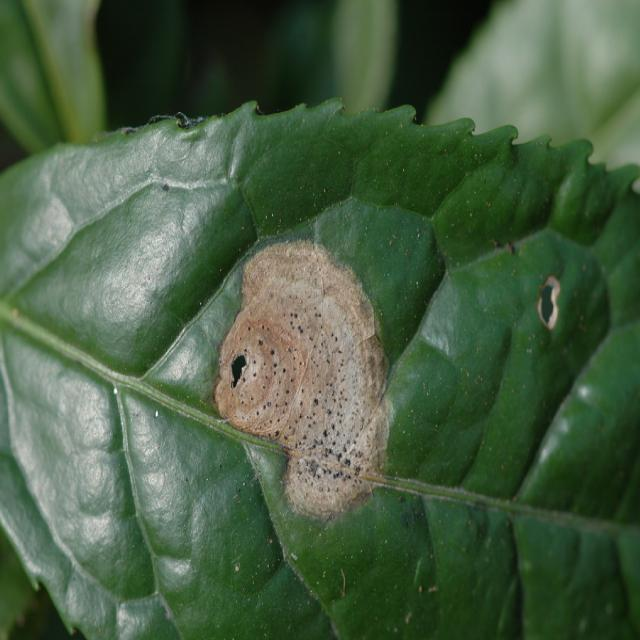Tea cloud leaf blight: (220, 230, 399, 538)
